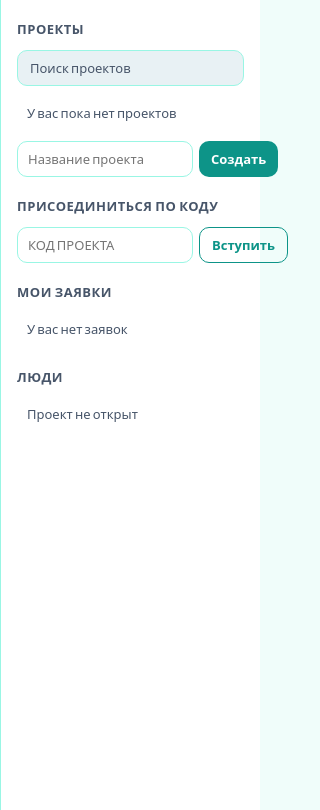
Test: Sidebar › creating a project adds it to the list without a page reload
Step 1. Type "New project" into the field labelled "Название проекта" → (105, 159), box [17,141,193,177]
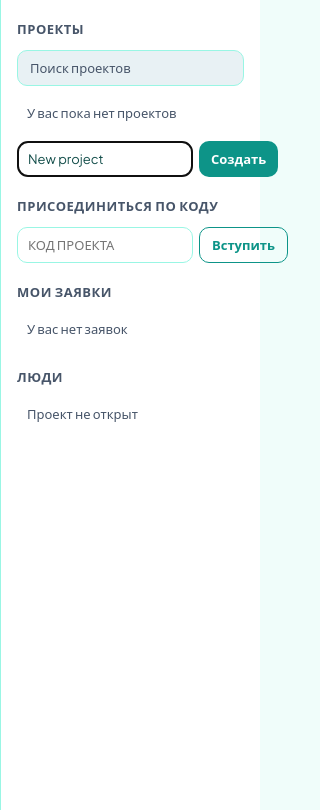
Step 2. Click the button "Создать" → (239, 159), box [199,141,278,177]
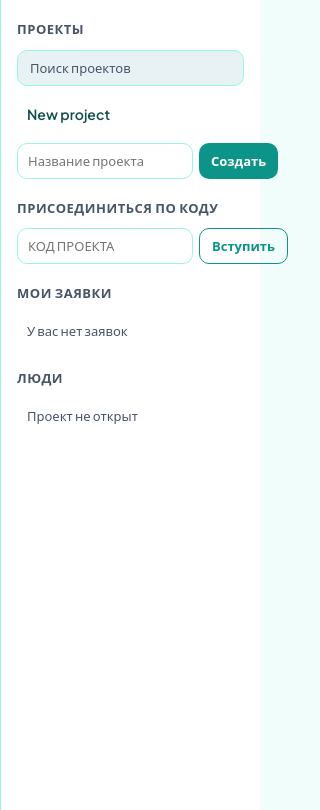
Expected: the link "New project" is shown, [27,104,110,122]
